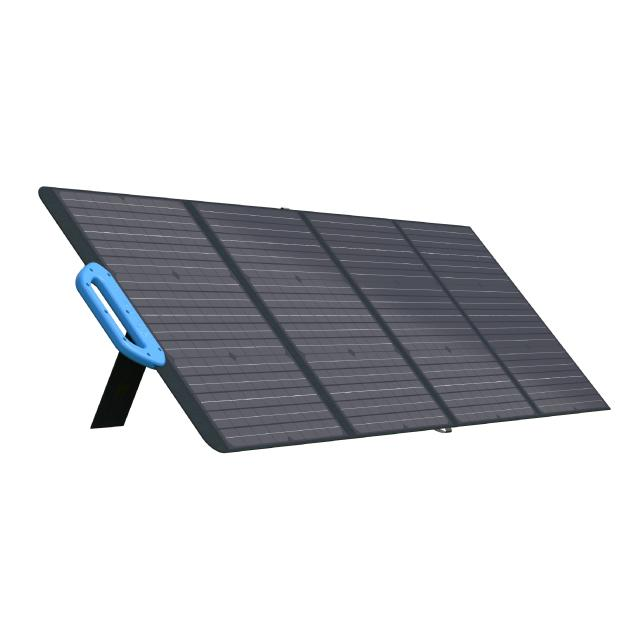clean-solar-panel: (39, 188, 608, 452)
